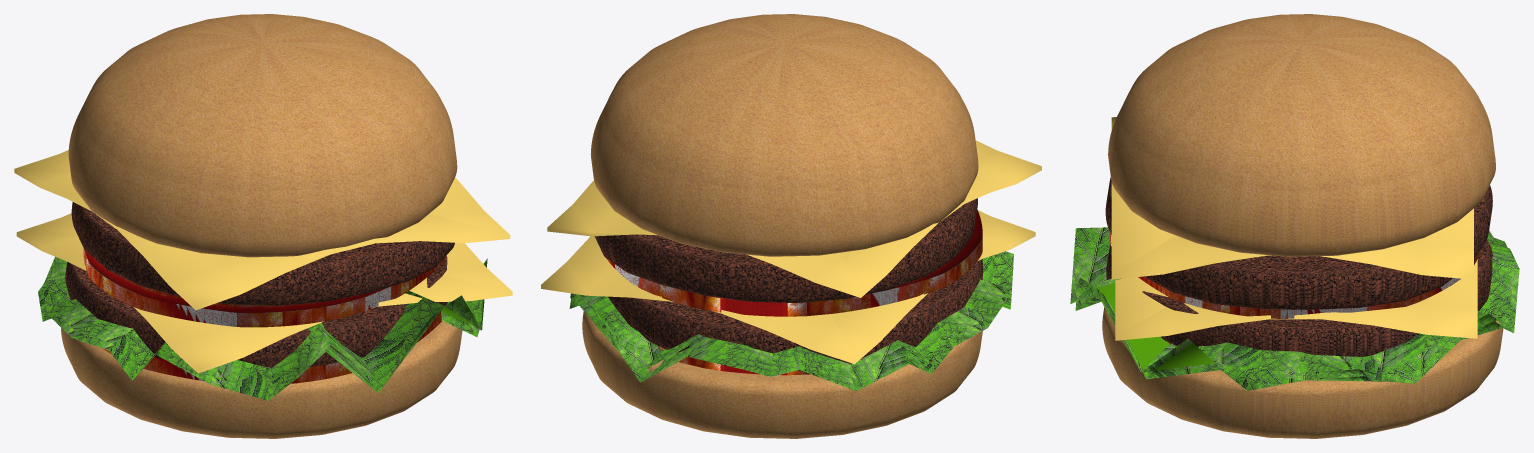
Rendered from hamburger.dae.
The picture shows the model from 3 angles, left to right: view 1: azimuth 30°, elevation 25°; view 2: azimuth 150°, elevation 25°; view 3: azimuth 270°, elevation 25°; orthographic projection.
Visible parts, largest first — view 1: Model; view 2: Model; view 3: Model.
Boxes of the visible parts, x1,y1,x2,y2 form: Model: (14,14,512,438); Model: (541,14,1041,438); Model: (1070,14,1519,438).
Size of the model in its own units: 24.11 by 24.26 by 20.53.
Materials: 9 (5 with a texture image).
